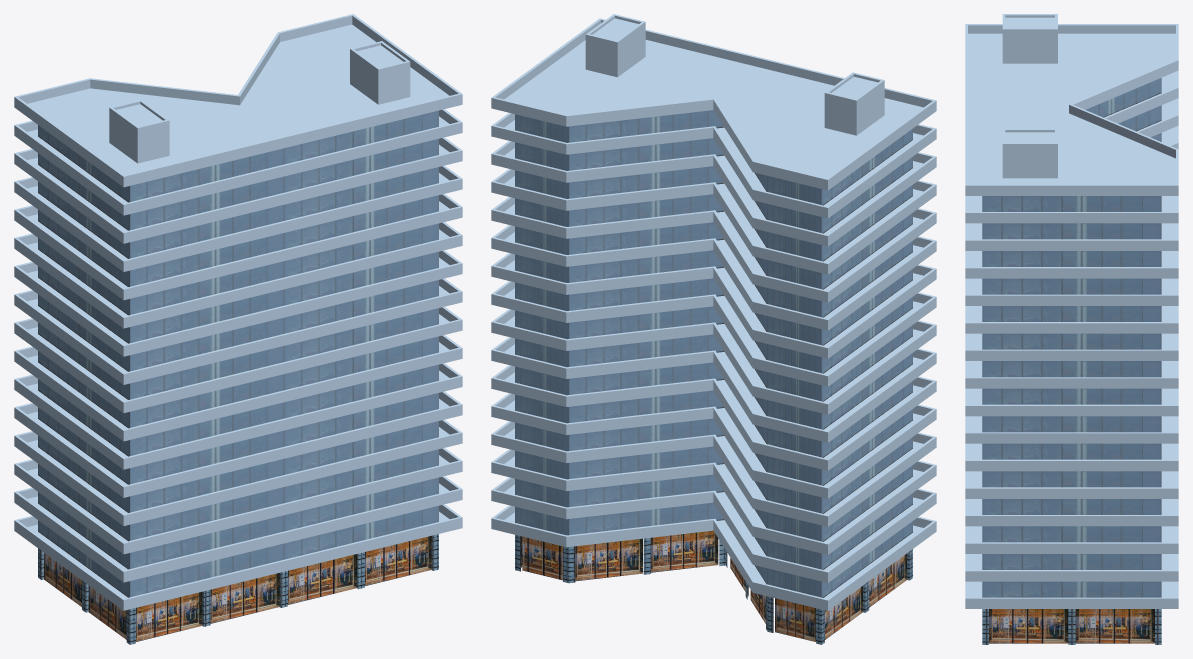
The model's file is Medium_Building_7.fbx.
3 renders of one model, left to right at view 1: azimuth 30°, elevation 25°; view 2: azimuth 150°, elevation 25°; view 3: azimuth 270°, elevation 25°, orthographic. The views are drawn at different scales.
Visible parts, largest first — view 1: Medium_Building_7; view 2: Medium_Building_7; view 3: Medium_Building_7.
Boxes of the visible parts, <box> form: Medium_Building_7: <box>14,14,462,644</box>; Medium_Building_7: <box>491,14,936,644</box>; Medium_Building_7: <box>965,14,1178,644</box>.
Bounding box in the file's own units: 4024 × 5721 × 2249.
